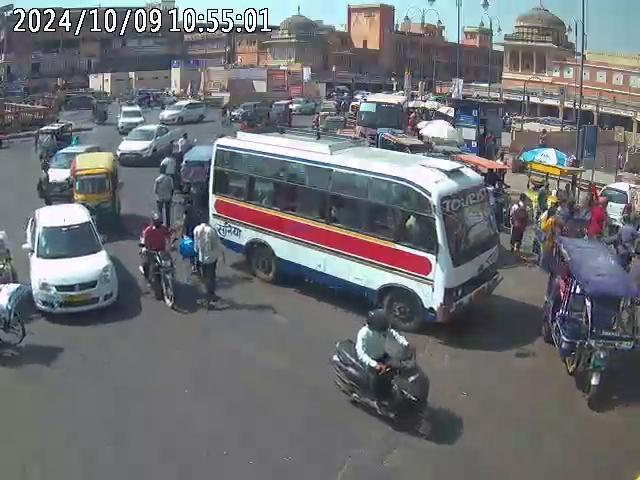auto: (538, 234, 639, 406), (70, 150, 122, 227), (180, 147, 212, 212), (32, 120, 72, 166)
bus: (208, 127, 500, 325)
car: (22, 203, 120, 316), (116, 123, 172, 165), (159, 99, 207, 126)
helmet: (367, 308, 392, 332), (146, 213, 166, 230)
motorbike-rider: (138, 218, 178, 308)
person: (192, 220, 223, 305), (509, 192, 535, 258), (153, 165, 173, 225)
scooty-rider: (330, 307, 434, 435)
